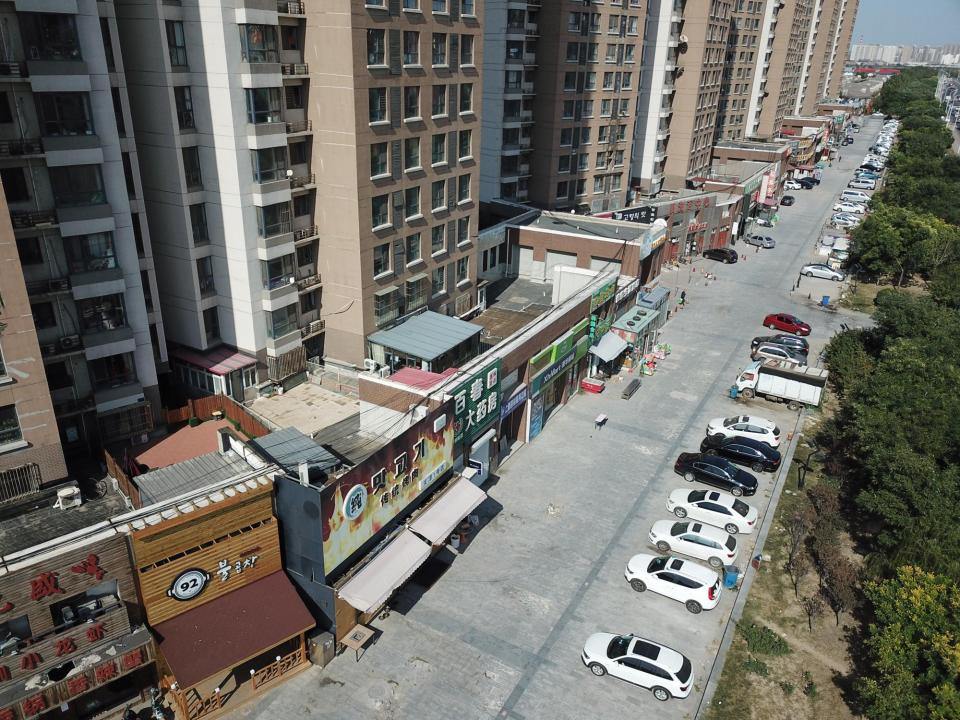car: (582, 632, 694, 701), (624, 553, 723, 614), (648, 519, 739, 568), (665, 488, 758, 533), (674, 452, 758, 496), (700, 435, 782, 473), (706, 414, 781, 449), (752, 334, 809, 358), (752, 342, 808, 366), (763, 313, 812, 336), (800, 264, 845, 282), (703, 247, 738, 264), (745, 235, 776, 248), (833, 202, 864, 214), (832, 212, 862, 222), (840, 200, 867, 211), (830, 215, 856, 225), (796, 176, 820, 184), (860, 164, 881, 172), (780, 195, 795, 206), (784, 180, 802, 189), (795, 180, 813, 189), (854, 168, 876, 175), (856, 172, 880, 178), (865, 163, 885, 170), (850, 177, 875, 182), (862, 159, 880, 165), (845, 138, 854, 144), (842, 139, 848, 146)
truck: (735, 358, 829, 412)
van: (827, 238, 852, 267), (840, 190, 872, 203), (848, 179, 875, 190), (863, 156, 881, 164), (871, 155, 889, 162), (854, 126, 860, 132)
